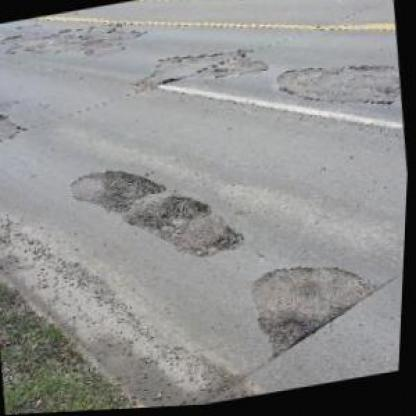pothole: (130, 191, 215, 236), (101, 160, 168, 209), (265, 316, 319, 358)
